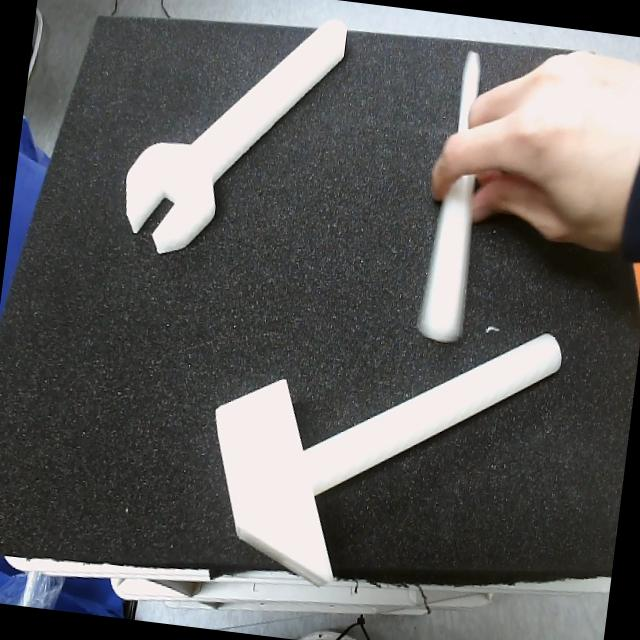Hammer: (214, 333, 561, 586)
Spanner: (125, 20, 346, 254)
